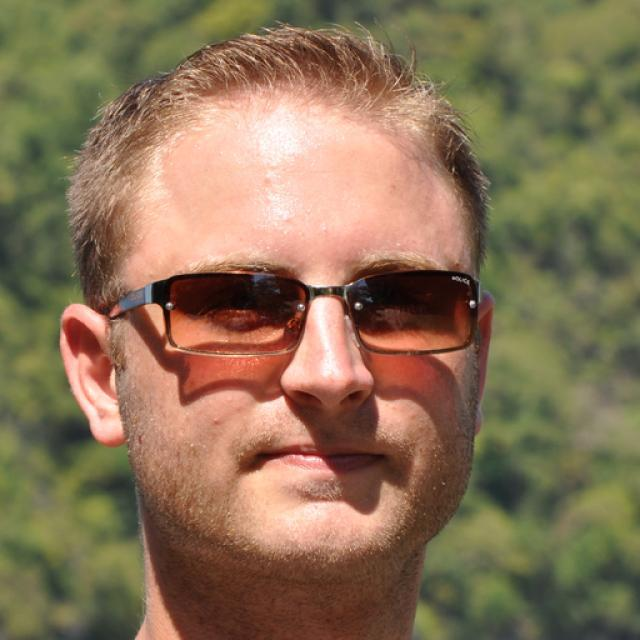anger: (118, 124, 480, 580)
